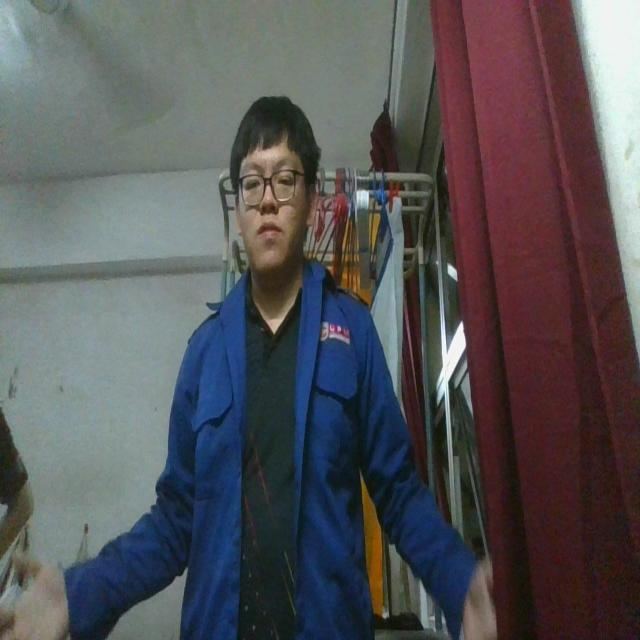person_with_labcoat: (0, 97, 495, 639)
